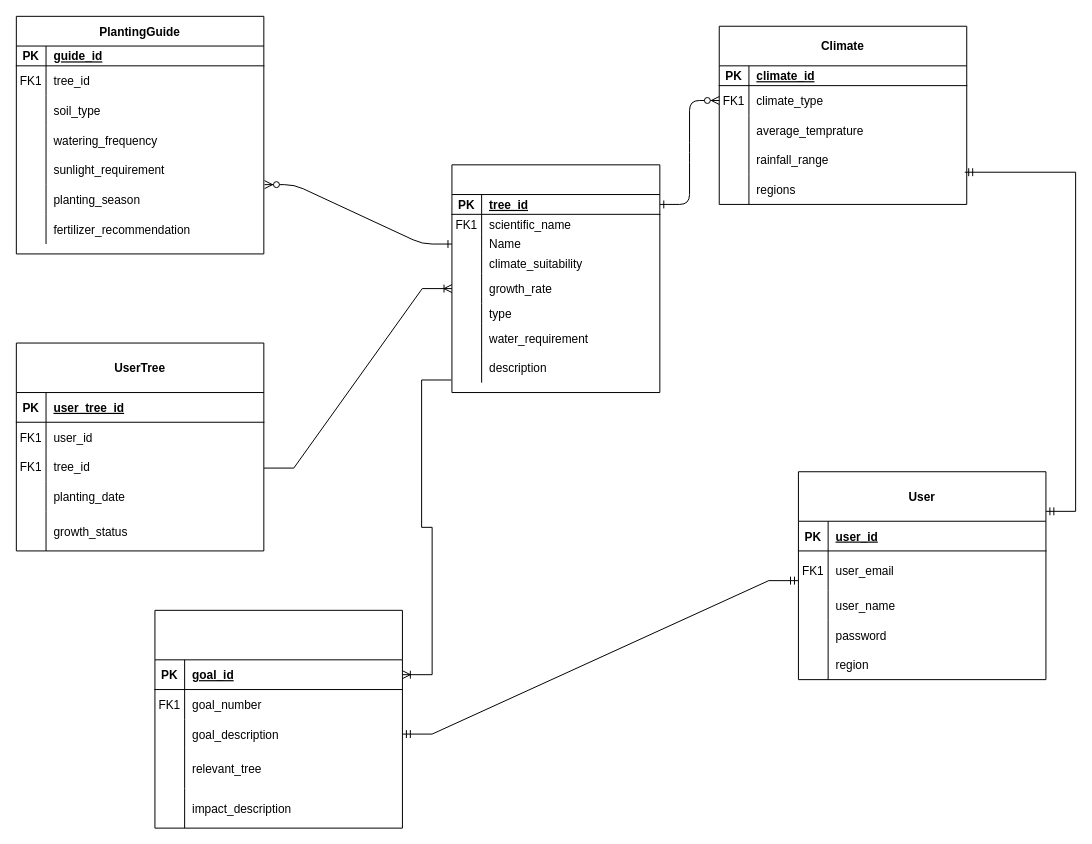
This 1092x844 diagram has some shape labels left out. Here are the shapes that lost their labels. From the top down, the box of each, then its label:
(451, 164, 660, 393): Trees
(154, 609, 402, 828): SDGgoal
